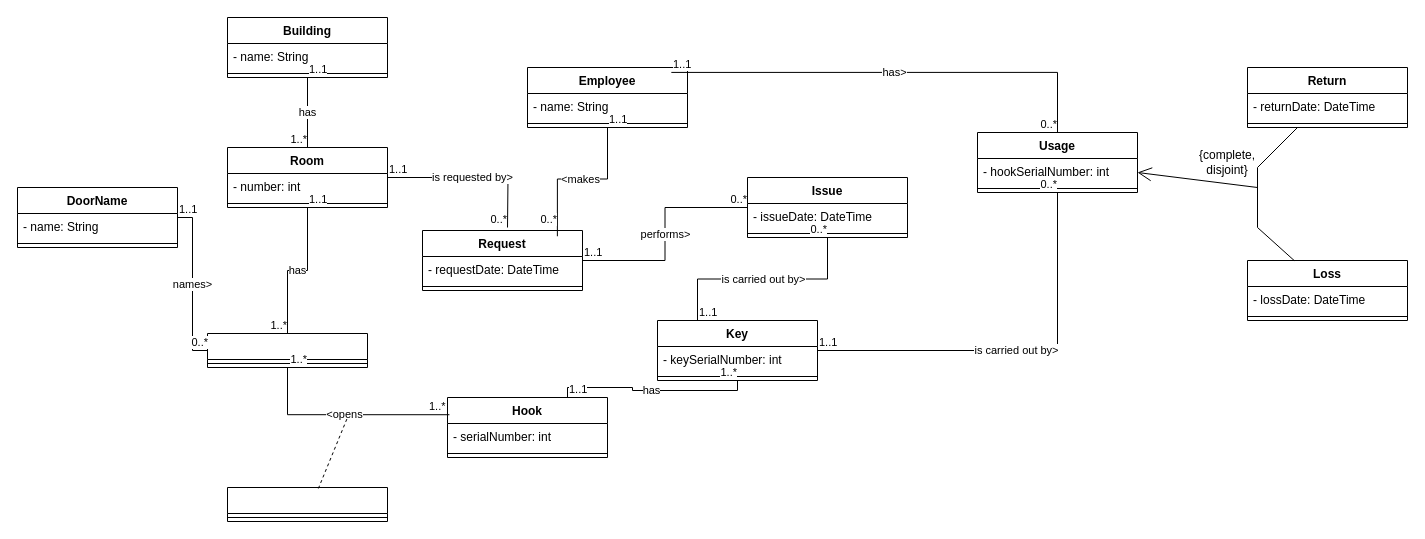
Some shapes in this 1425 by 539 pixel diagram are drawn without their labels. Each missing label, with the centre of its shape:
"Door" goes at (x=287, y=350).
"Permission" goes at (x=307, y=504).
